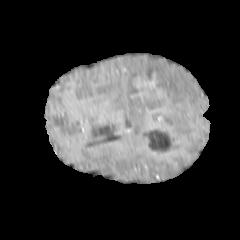glioma: (111, 58, 198, 132)
